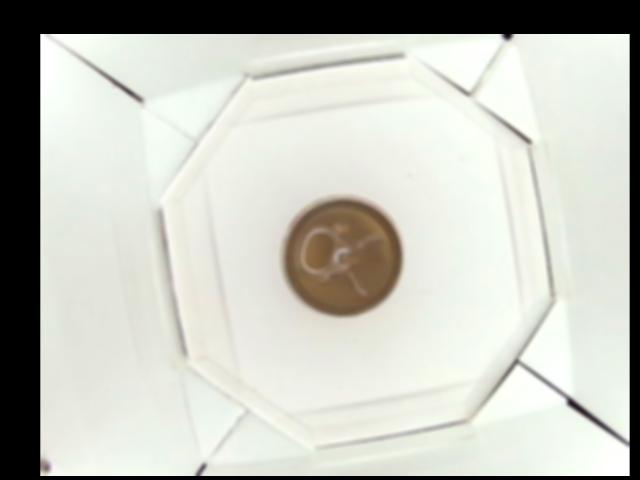Bottle: (276, 195, 404, 320)
